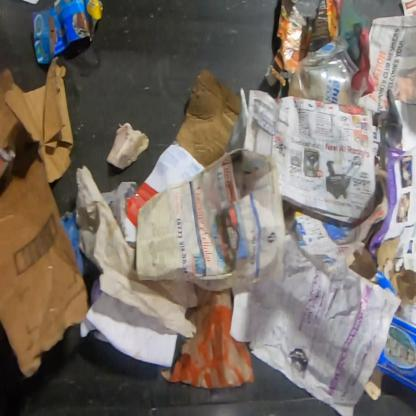cardboard: (0, 71, 90, 379), (3, 56, 74, 183), (171, 68, 242, 170), (34, 0, 105, 64), (376, 299, 415, 395), (367, 269, 399, 296)
rigid_plastic: (289, 35, 368, 108)
